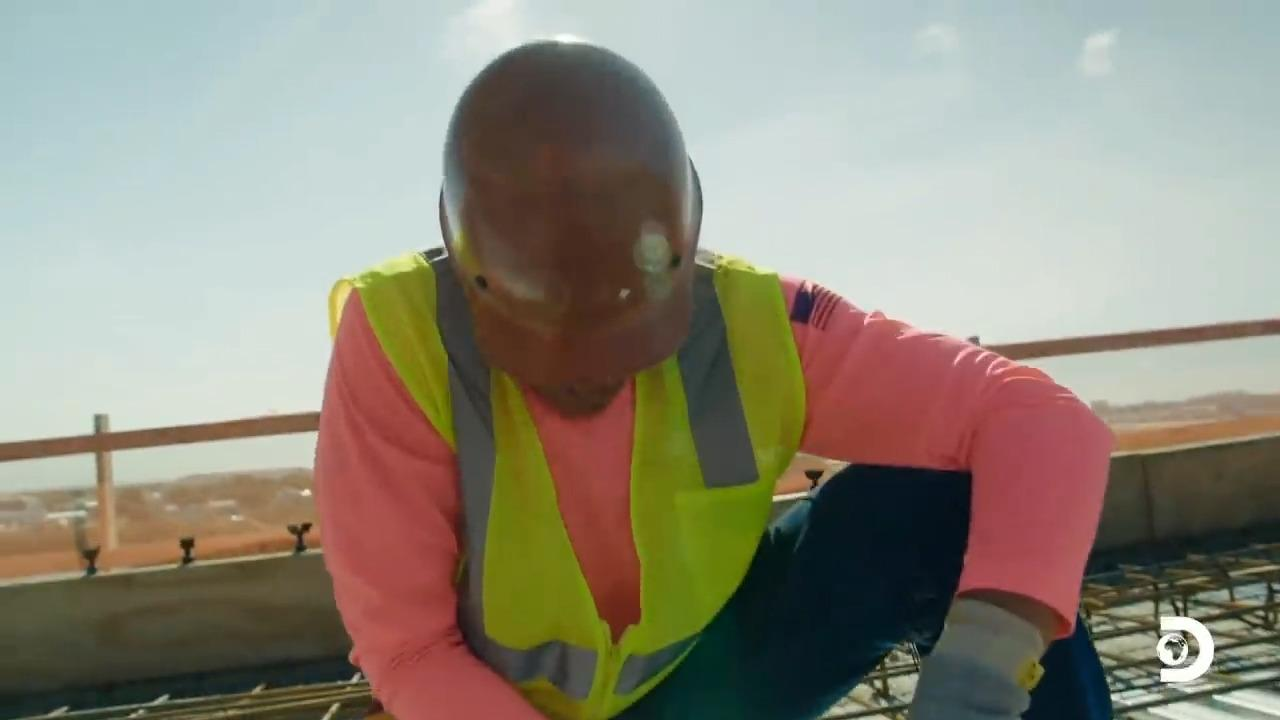Gloves: (898, 619, 1034, 720)
Helmet: (437, 38, 703, 392)
Person: (338, 38, 1145, 720)
Safety Vest: (393, 313, 825, 636)
